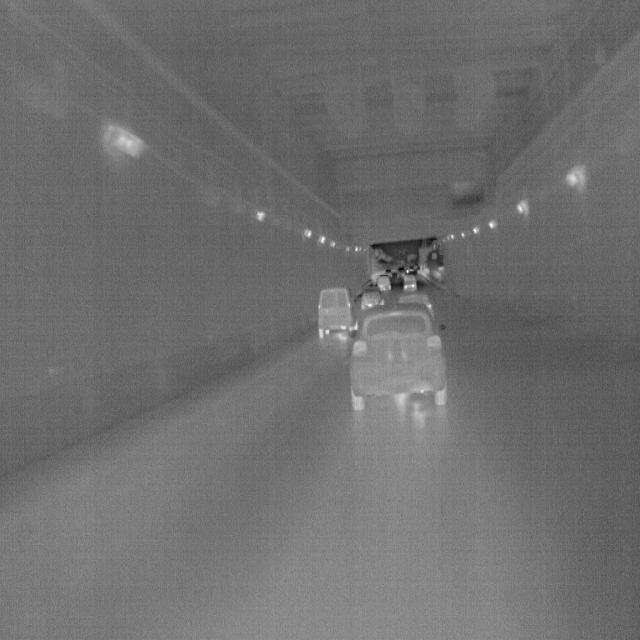Vehicle: (345, 300, 448, 418), (315, 284, 359, 340)
